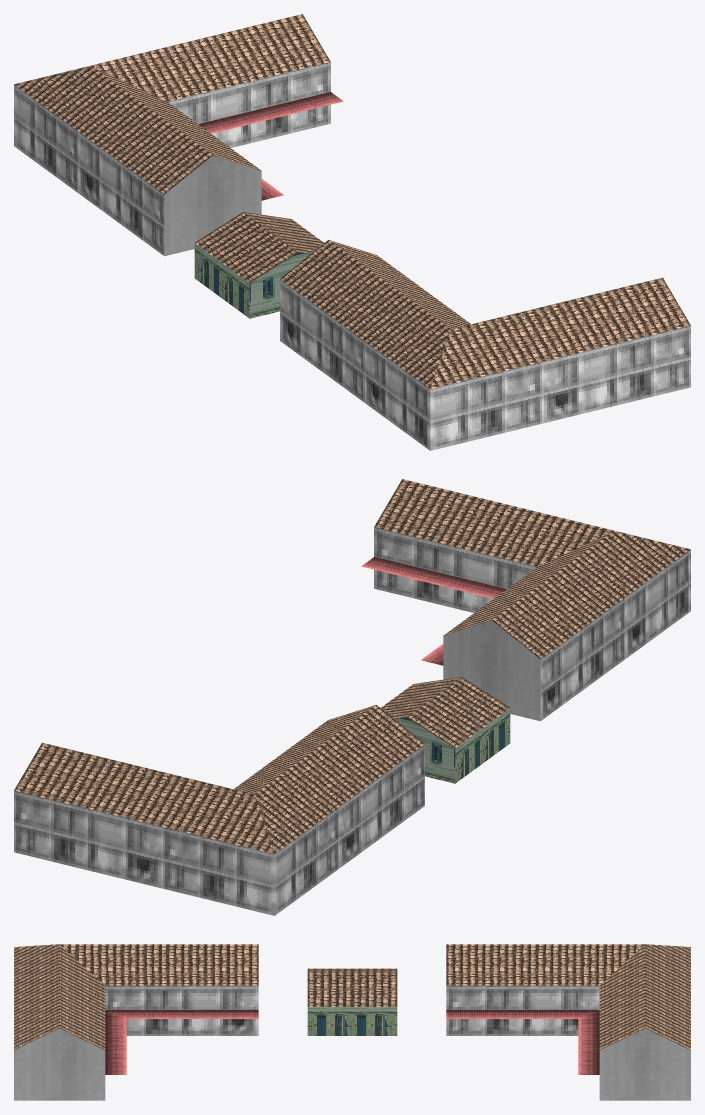
The model's file is uvmd-0065.glb.
The picture shows the model from 3 angles, top to bottom: view 1: azimuth 30°, elevation 25°; view 2: azimuth 150°, elevation 25°; view 3: azimuth 270°, elevation 25°; orthographic projection. The views are drawn at different scales.
Parts seen in each view (by area): view 1: uvmd-0065; view 2: uvmd-0065; view 3: uvmd-0065.
Part boxes in pixels (box(x1,y1,x2,y2)): uvmd-0065: box(14, 14, 690, 450); uvmd-0065: box(14, 479, 690, 915); uvmd-0065: box(14, 944, 690, 1100).
Bounding box in the file's own units: 300 × 98 × 830.
5 materials, 5 textured.
